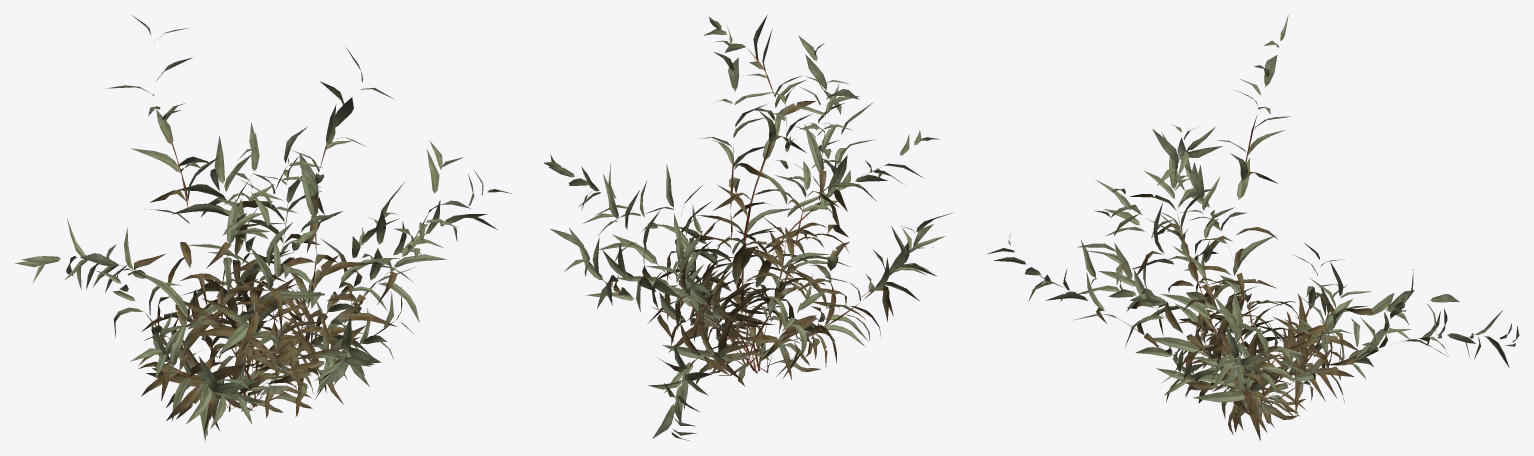
Rendered from shrub_02.glb.
3 renders of one model, left to right at view 1: azimuth 30°, elevation 25°; view 2: azimuth 150°, elevation 25°; view 3: azimuth 270°, elevation 25°, orthographic. The views are drawn at different scales.
Parts seen in each view (by area): view 1: shrub_02_shrub_02_a, shrub_02_shrub_02_c, shrub_02_shrub_02_b, shrub_02_shrub_02_d; view 2: shrub_02_shrub_02_a, shrub_02_shrub_02_c, shrub_02_shrub_02_b, shrub_02_shrub_02_d; view 3: shrub_02_shrub_02_a, shrub_02_shrub_02_c, shrub_02_shrub_02_b, shrub_02_shrub_02_d.
Part boxes in pixels (x1,y1,x2,y2): shrub_02_shrub_02_a: (106,15,470,435); shrub_02_shrub_02_c: (15,123,512,430); shrub_02_shrub_02_b: (146,47,398,441); shrub_02_shrub_02_d: (96,127,413,418); shrub_02_shrub_02_a: (583,26,874,373); shrub_02_shrub_02_c: (543,76,945,440); shrub_02_shrub_02_b: (645,15,953,379); shrub_02_shrub_02_d: (550,86,829,379); shrub_02_shrub_02_a: (1077,15,1459,440); shrub_02_shrub_02_c: (987,124,1519,434); shrub_02_shrub_02_b: (1077,127,1371,428); shrub_02_shrub_02_d: (1156,151,1411,423).
Size of the model in its own units: 1.59 by 1.52 by 2.06.
Materials: 1 (1 with a texture image).
